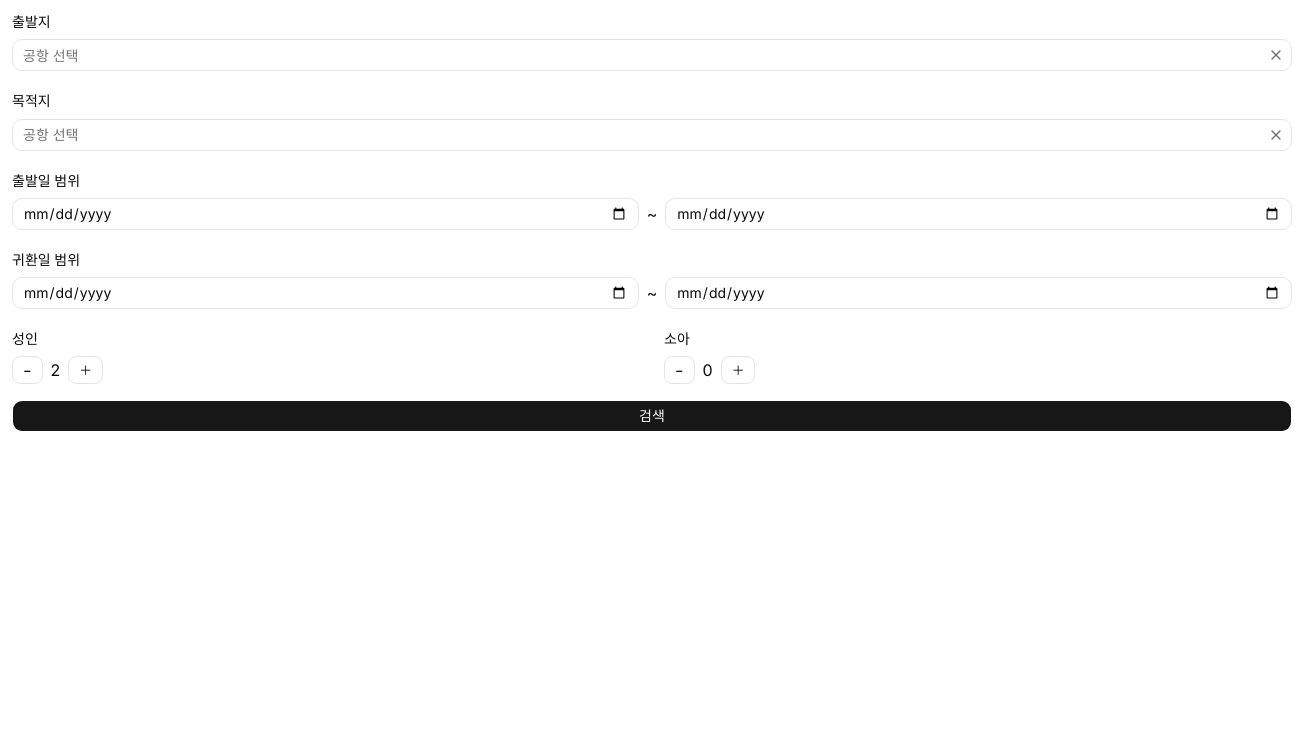
it: SearchForm — validation › shows 출발지 error when origin is empty on submit
Click the button "검색" at {"x": 652, "y": 416}, box [12,400,1292,432]
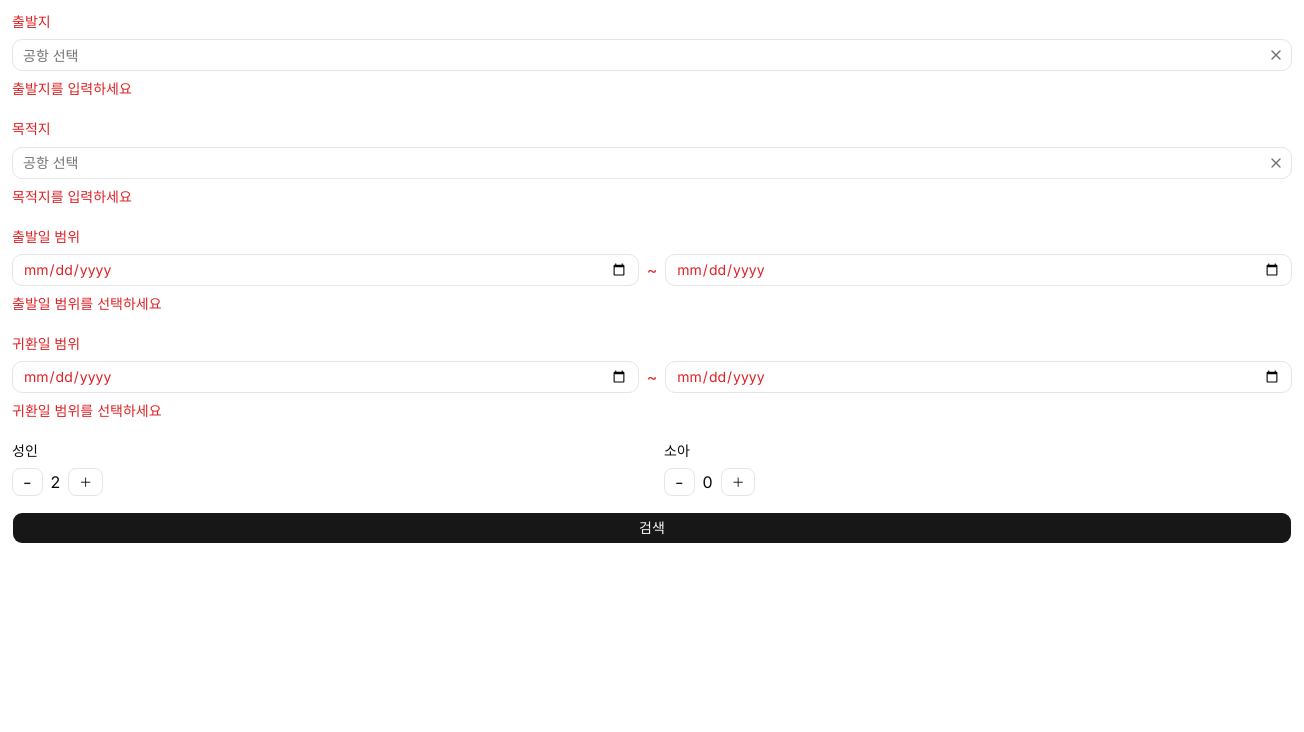
Expected: the text "출발지를 입력하세요" is shown, [12,80,132,97]
